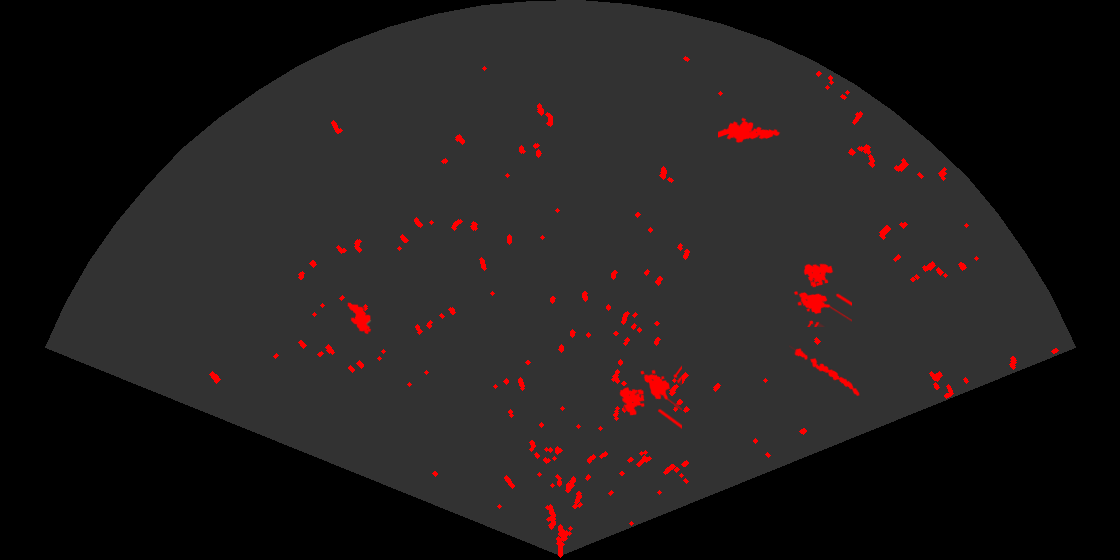AUV: (346, 301, 373, 336)
cage: (618, 364, 682, 431), (792, 262, 852, 327)
chain: (789, 344, 861, 398)
frogman: (718, 116, 781, 144)
